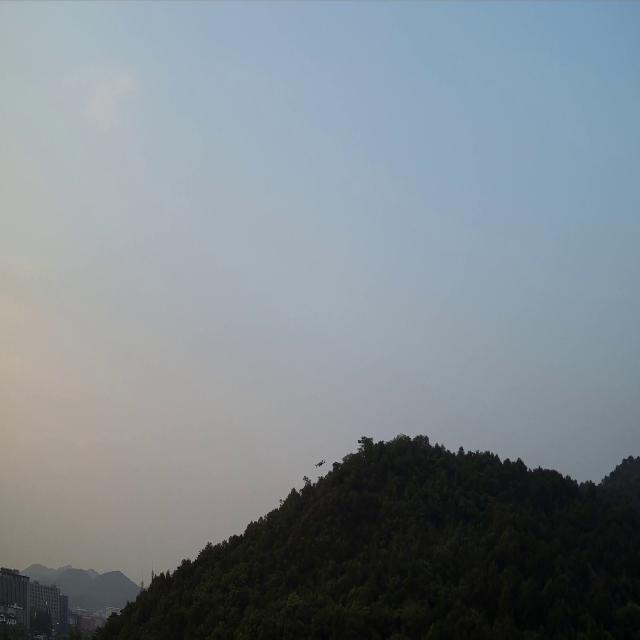UAV: (315, 458, 325, 470)
